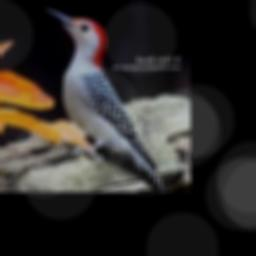Woodpecker: (46, 8, 170, 192)
